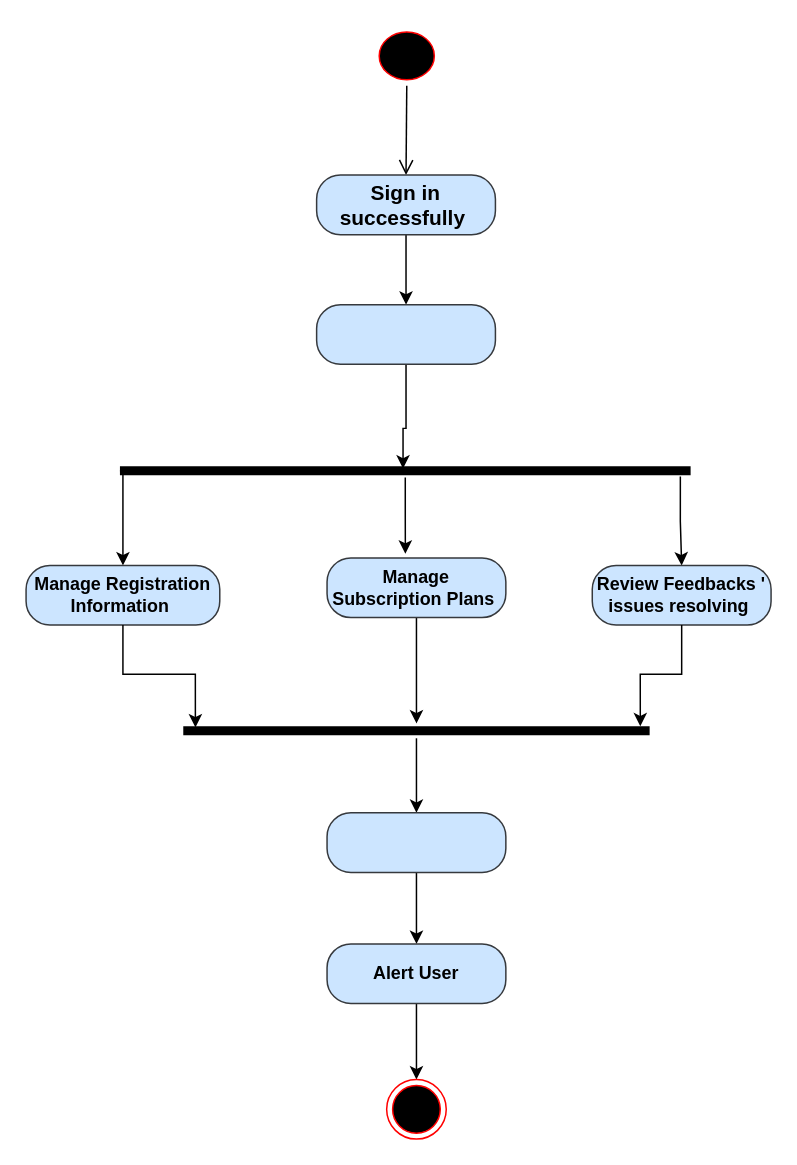
Some shapes in this 797 by 1165 pixel diagram are drawn without their labels. The shapes that lost their labels are listed below. From the top down, each one's box as (x1, y1, x2, y2) in pixels, then its label:
(315, 303, 495, 364): Access User information
(326, 811, 506, 872): Confirm
